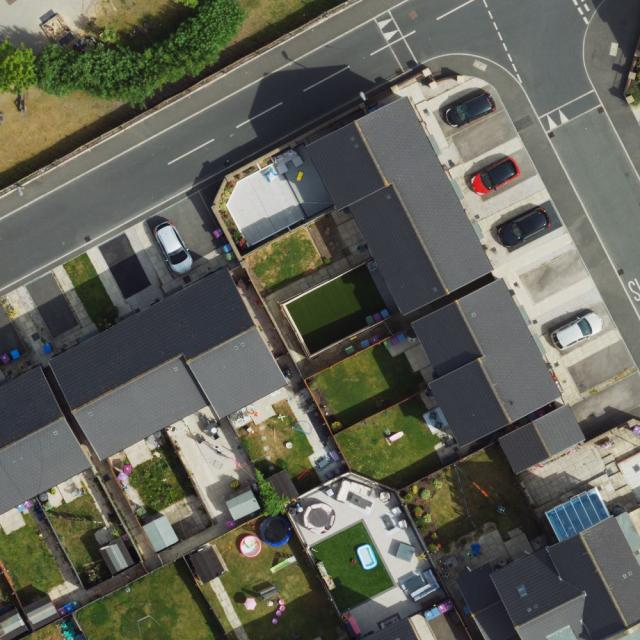roof: (51, 267, 290, 463), (303, 93, 490, 316), (410, 276, 563, 449), (488, 484, 640, 640), (0, 363, 93, 518), (500, 403, 587, 474)
skylight: (545, 488, 612, 543), (516, 582, 529, 598)
